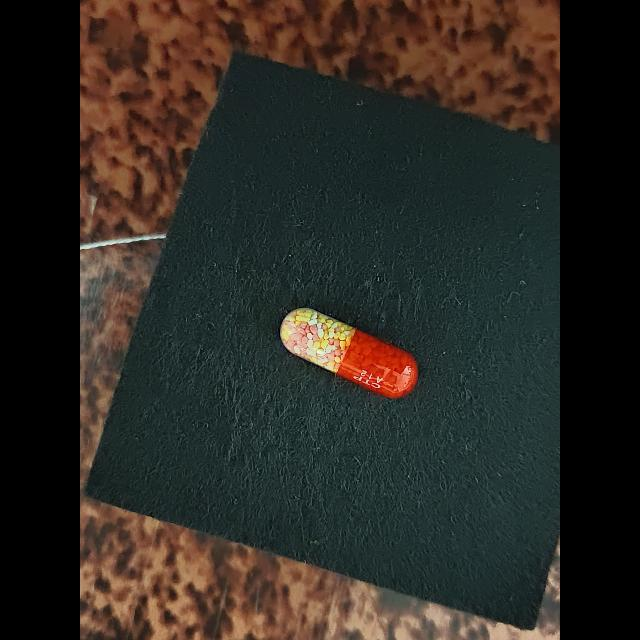Intact Capsule: (280, 308, 418, 398)
